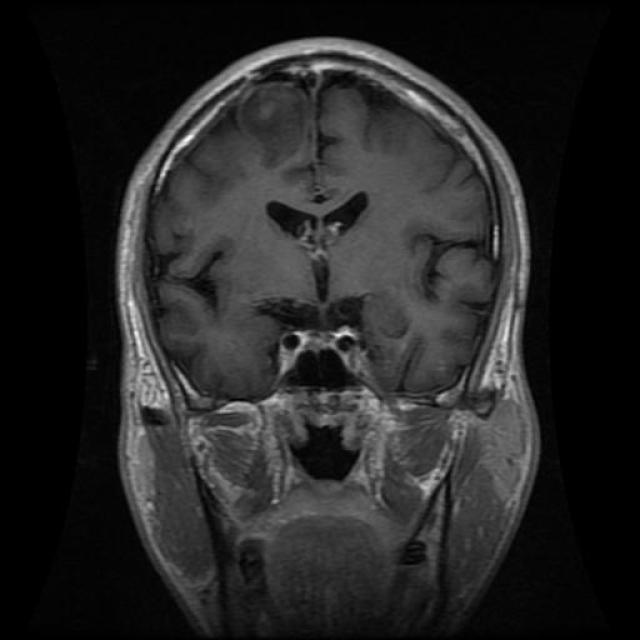glioma: (261, 195, 379, 300)
